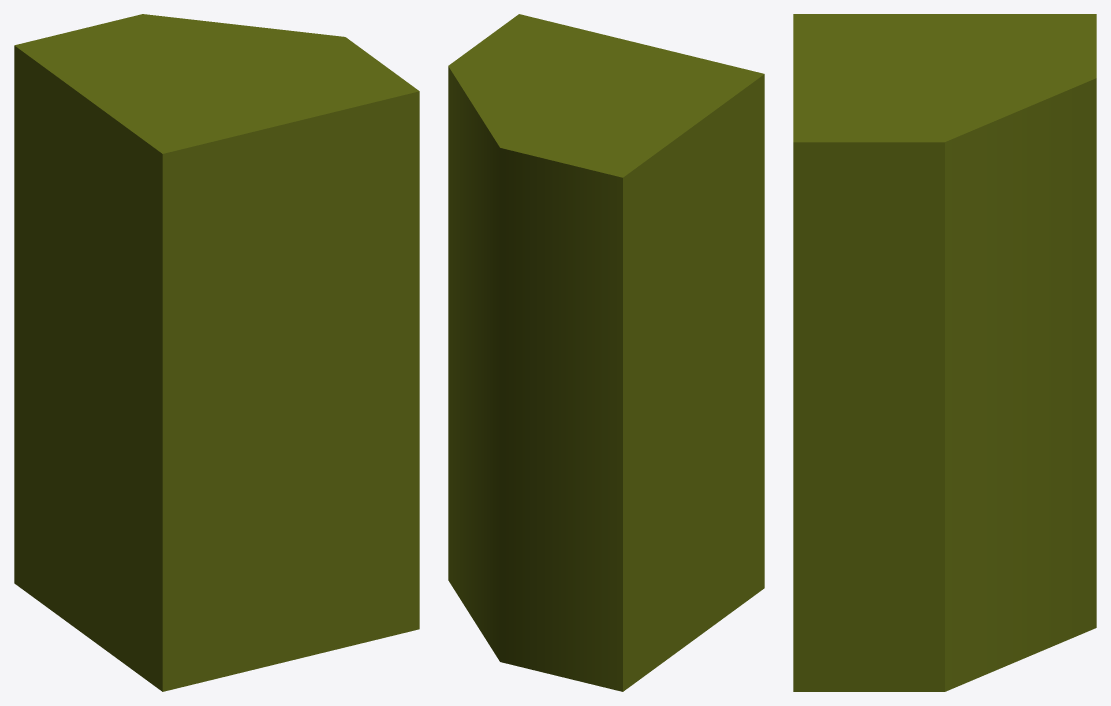
File: SkyTower3.fbx
The picture shows the model from 3 angles, left to right: view 1: azimuth 30°, elevation 25°; view 2: azimuth 150°, elevation 25°; view 3: azimuth 270°, elevation 25°; orthographic projection. The views are drawn at different scales.
Parts seen in each view (by area): view 1: SkyTower3; view 2: SkyTower3; view 3: SkyTower3.
Boxes of the visible parts, x1=… form: SkyTower3: x1=14, y1=14, x2=419, y2=691; SkyTower3: x1=448, y1=14, x2=764, y2=691; SkyTower3: x1=793, y1=14, x2=1096, y2=691.
Size of the model in its own units: 200 by 400 by 200.
